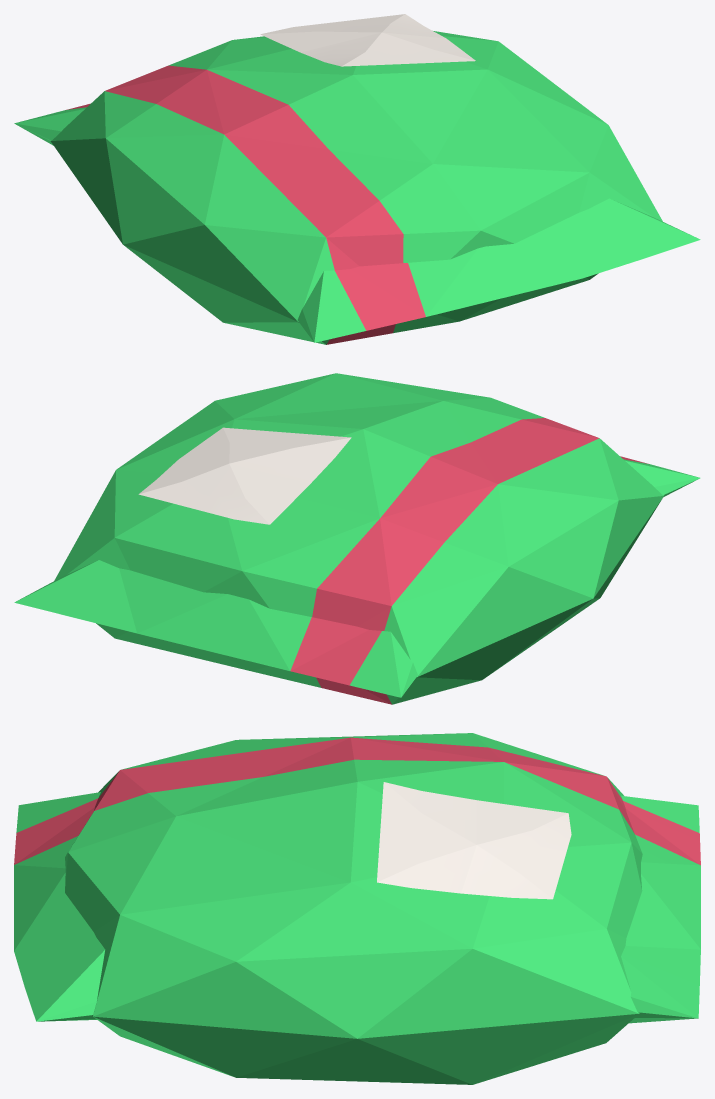
The model's file is Snack3.fbx.
The picture shows the model from 3 angles, top to bottom: view 1: azimuth 30°, elevation 25°; view 2: azimuth 150°, elevation 25°; view 3: azimuth 270°, elevation 25°; orthographic projection. The views are drawn at different scales.
Parts seen in each view (by area): view 1: Snack3; view 2: Snack3; view 3: Snack3.
Boxes of the visible parts, left/top/right/bottom form: Snack3: left=14, top=14, right=700, bottom=344; Snack3: left=14, top=373, right=700, bottom=704; Snack3: left=14, top=733, right=700, bottom=1084.
Bounding box in the file's own units: 30 × 13.21 × 33.88.
